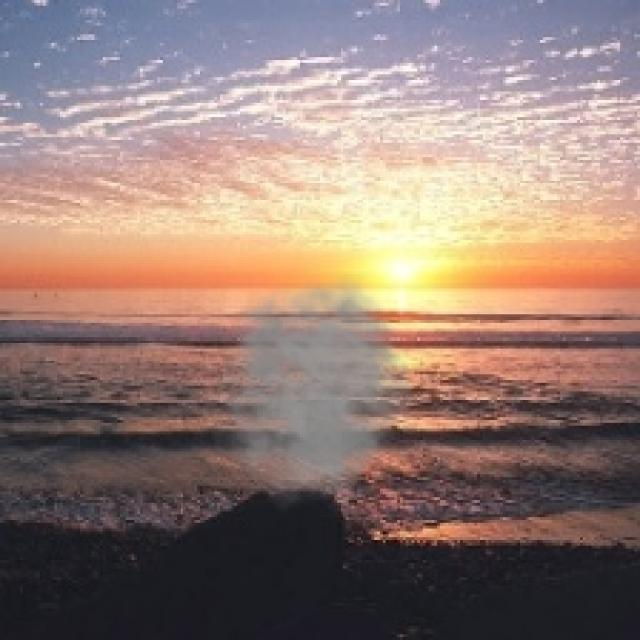Smoke: (200, 274, 414, 517)
